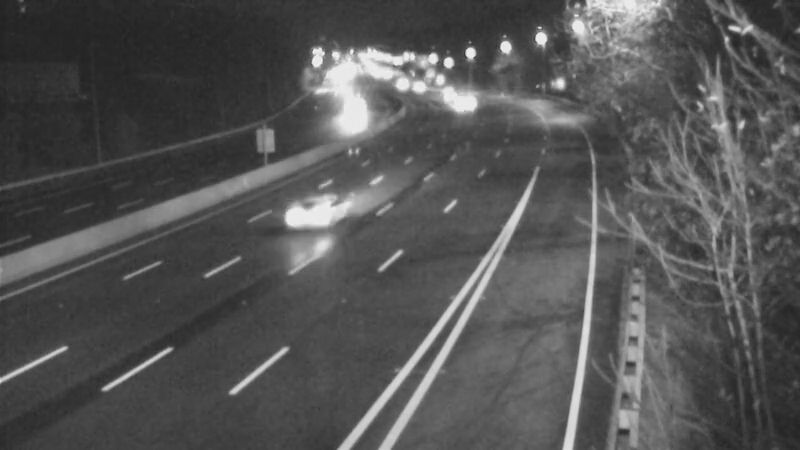vehicle: (276, 168, 356, 248), (375, 58, 425, 108), (393, 61, 443, 111), (422, 71, 472, 121), (439, 80, 489, 130), (324, 91, 374, 141)
